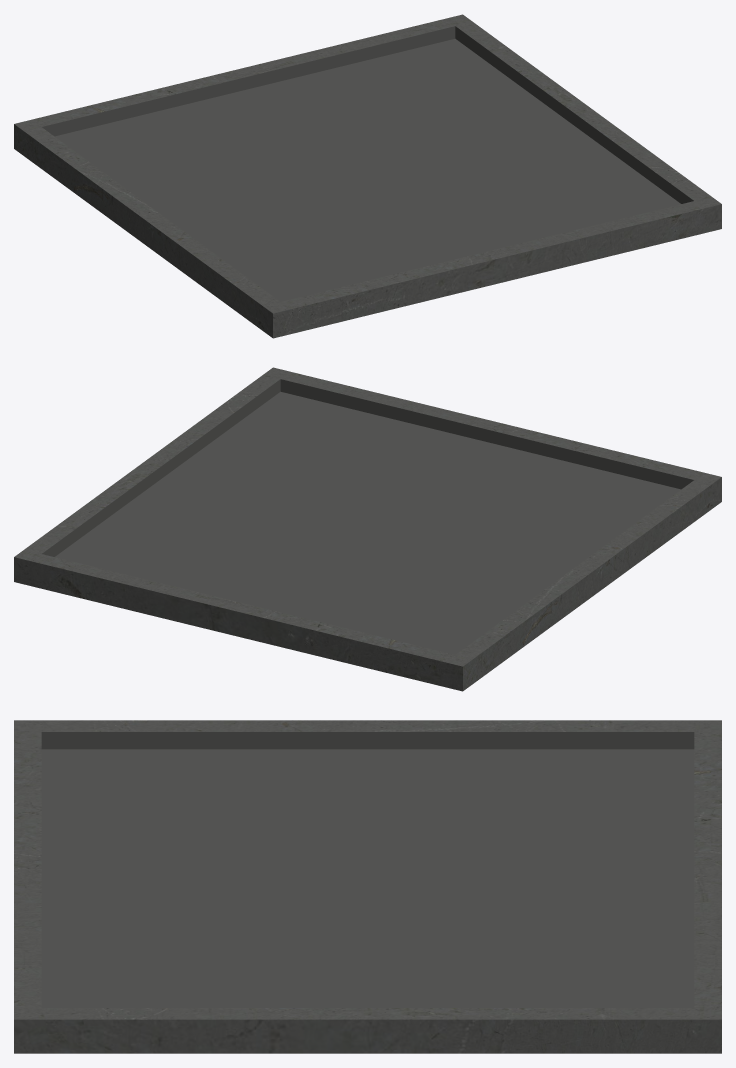
File: Course2.obj
3 views of the same model, one above another, from view 1: azimuth 30°, elevation 25°; view 2: azimuth 150°, elevation 25°; view 3: azimuth 270°, elevation 25° (orthographic). The views are drawn at different scales.
Visible parts, largest first — view 1: Cube.001; view 2: Cube.001; view 3: Cube.001.
Part boxes in pixels (bbox=[...]): Cube.001: bbox=[14, 14, 721, 338]; Cube.001: bbox=[14, 367, 721, 691]; Cube.001: bbox=[14, 720, 721, 1053].
Size of the model in its own units: 15.97 by 0.8463 by 15.96.
